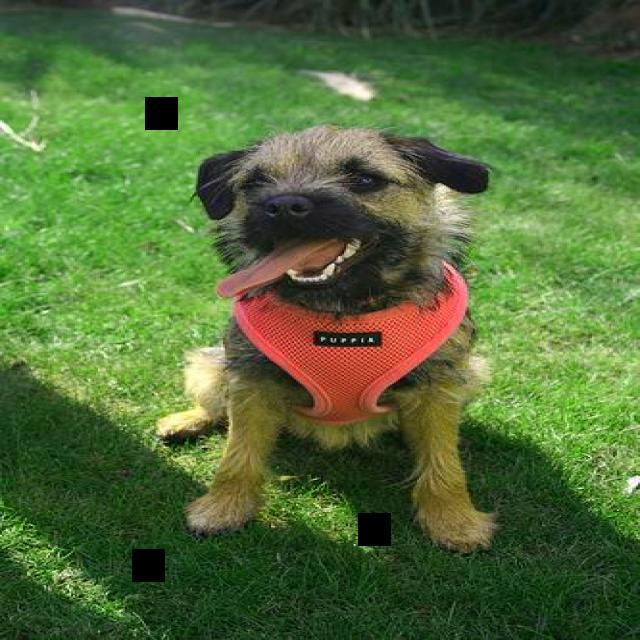adult_dog: (153, 121, 499, 554)
